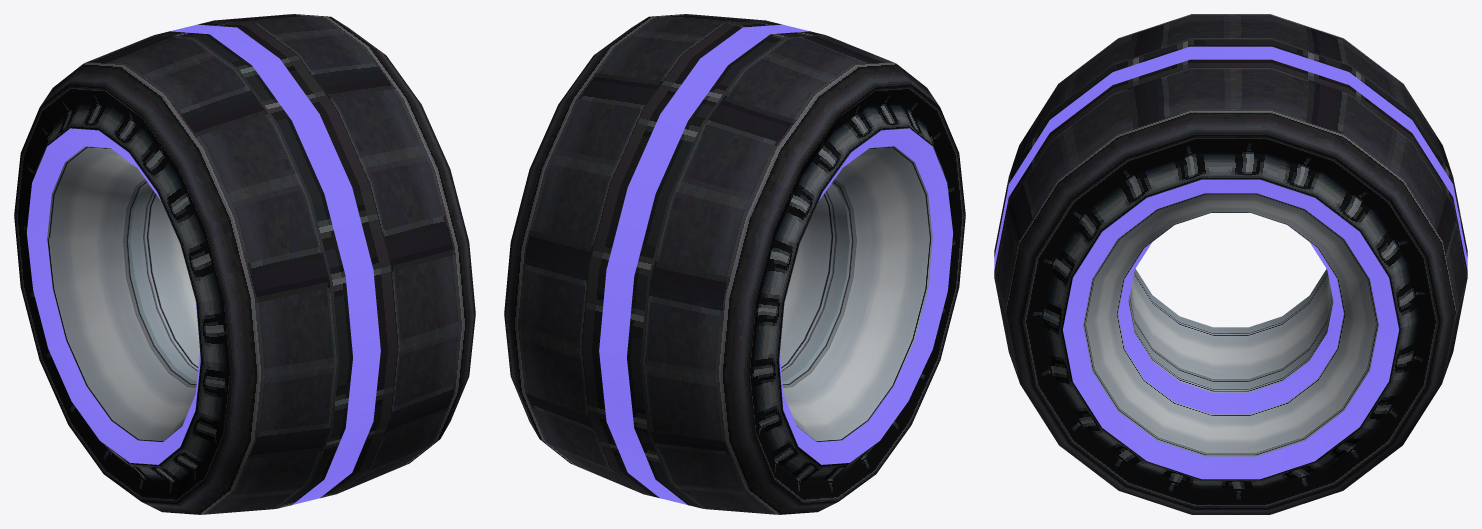
The model's file is runner02leftRearTyre.glb.
The picture shows the model from 3 angles, left to right: view 1: azimuth 30°, elevation 25°; view 2: azimuth 150°, elevation 25°; view 3: azimuth 270°, elevation 25°; orthographic projection. The views are drawn at different scales.
Parts seen in each view (by area): view 1: origin; view 2: origin; view 3: origin.
Part boxes in pixels (left/top/right/bottom): origin: left=14, top=14, right=475, bottom=514; origin: left=504, top=14, right=965, bottom=514; origin: left=994, top=14, right=1467, bottom=514.
Size of the model in its own units: 0.7339 by 1.14 by 1.15.
Materials: 4 (3 with a texture image).
